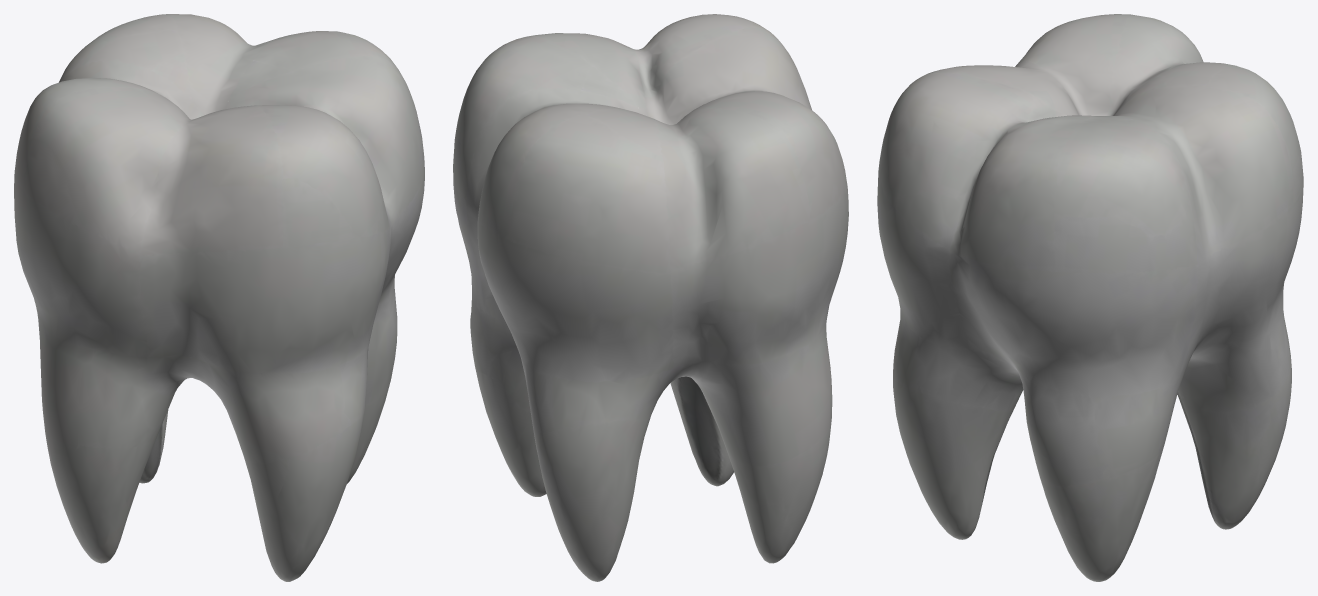
The model's file is dente.glb.
The picture shows the model from 3 angles, left to right: view 1: azimuth 30°, elevation 25°; view 2: azimuth 150°, elevation 25°; view 3: azimuth 270°, elevation 25°; orthographic projection.
Visible parts, largest first — view 1: tripo_node_ef385b6b-2cbe-4002-a1dc-b8396351053c; view 2: tripo_node_ef385b6b-2cbe-4002-a1dc-b8396351053c; view 3: tripo_node_ef385b6b-2cbe-4002-a1dc-b8396351053c.
Part boxes in pixels (x1,y1,x2,y2): tripo_node_ef385b6b-2cbe-4002-a1dc-b8396351053c: (14,14,424,581); tripo_node_ef385b6b-2cbe-4002-a1dc-b8396351053c: (453,14,848,581); tripo_node_ef385b6b-2cbe-4002-a1dc-b8396351053c: (877,14,1303,581).
Bounding box in the file's own units: 0.8288 × 1 × 0.8425.
Materials: 1 (1 with a texture image).
